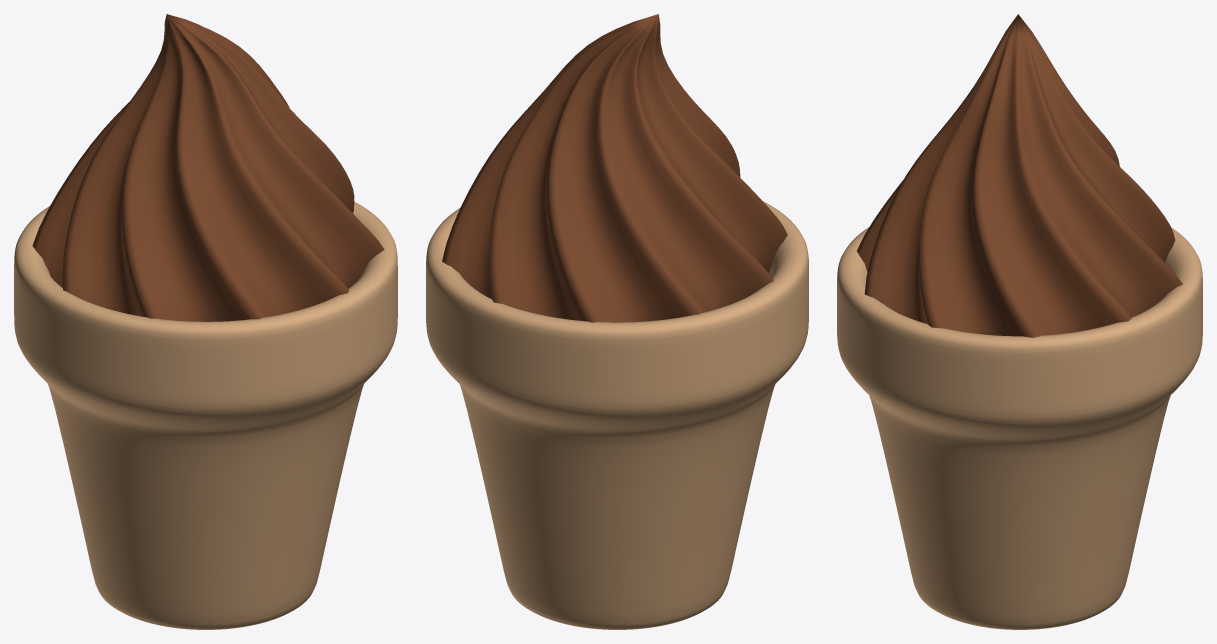
File: ChocolateIceCream.fbx
3 views of the same model, side by side, from view 1: azimuth 30°, elevation 25°; view 2: azimuth 150°, elevation 25°; view 3: azimuth 270°, elevation 25° (orthographic). The views are drawn at different scales.
Parts seen in each view (by area): view 1: ChocolateIceCreamCone, ChocolateIceCream; view 2: ChocolateIceCreamCone, ChocolateIceCream; view 3: ChocolateIceCreamCone, ChocolateIceCream.
Part boxes in pixels (x1,y1,x2,y2): ChocolateIceCreamCone: (14, 201, 397, 629); ChocolateIceCream: (32, 14, 384, 321); ChocolateIceCreamCone: (426, 201, 808, 629); ChocolateIceCream: (442, 14, 787, 322); ChocolateIceCreamCone: (837, 227, 1202, 629); ChocolateIceCream: (857, 14, 1182, 337).
Size of the model in its own units: 51.26 by 86.04 by 51.26.
